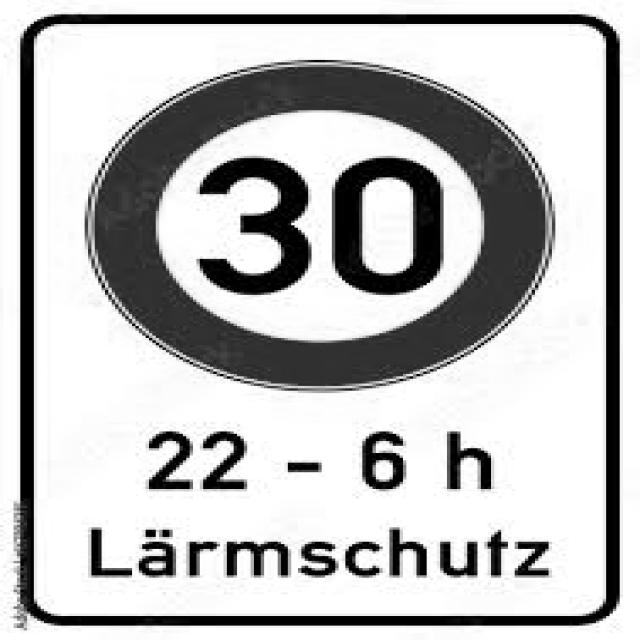speed_30: (84, 61, 558, 395)
